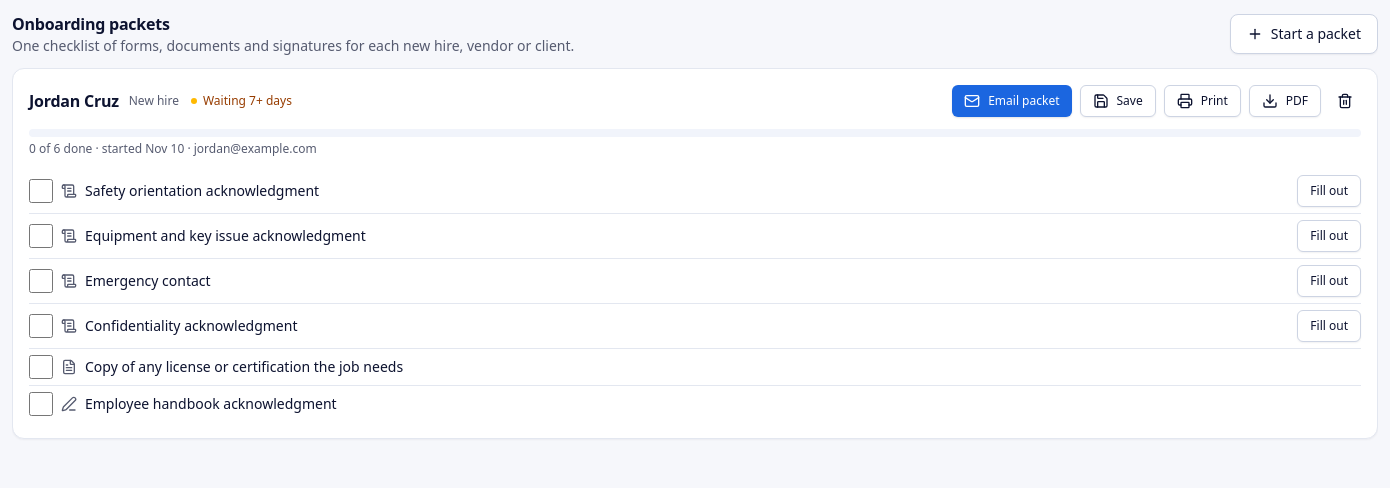
Test case: Packets: emailing and reminders › shows the server's reason when it cannot send
Click the button with aria-label "Email packet to Jordan Cruz": x=1012, y=101 [952,85,1072,117]
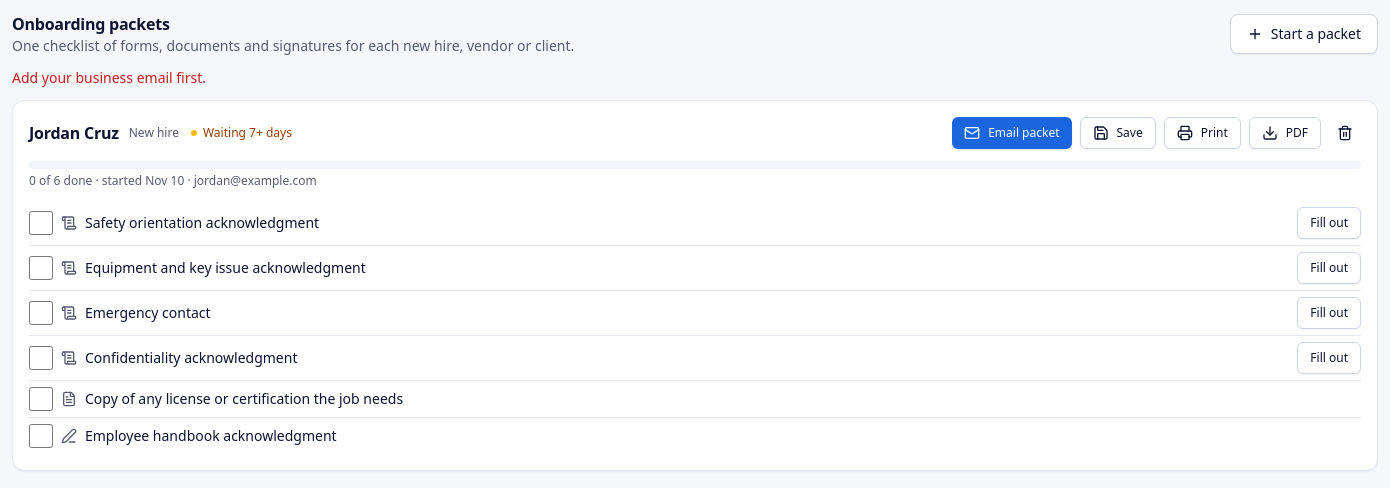
Now the message reads "Add your business email first.", box [12,68,206,87]
